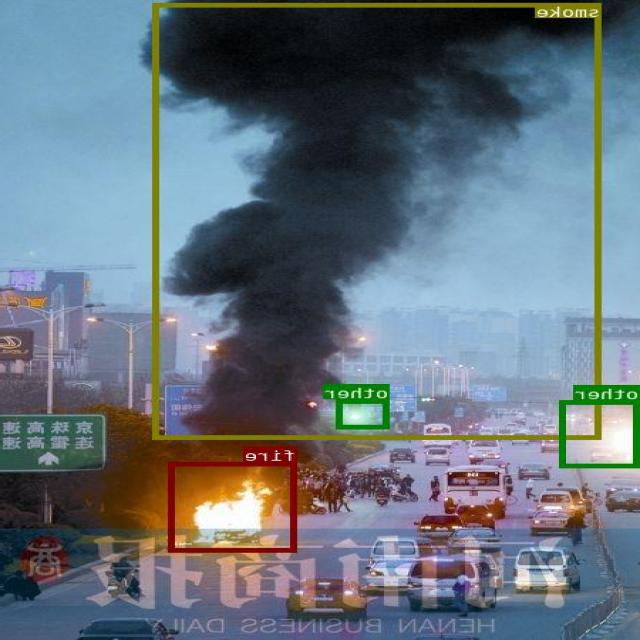fire: (170, 461, 298, 551)
other: (562, 400, 640, 467), (338, 398, 390, 428)
smoke: (155, 2, 602, 438)
